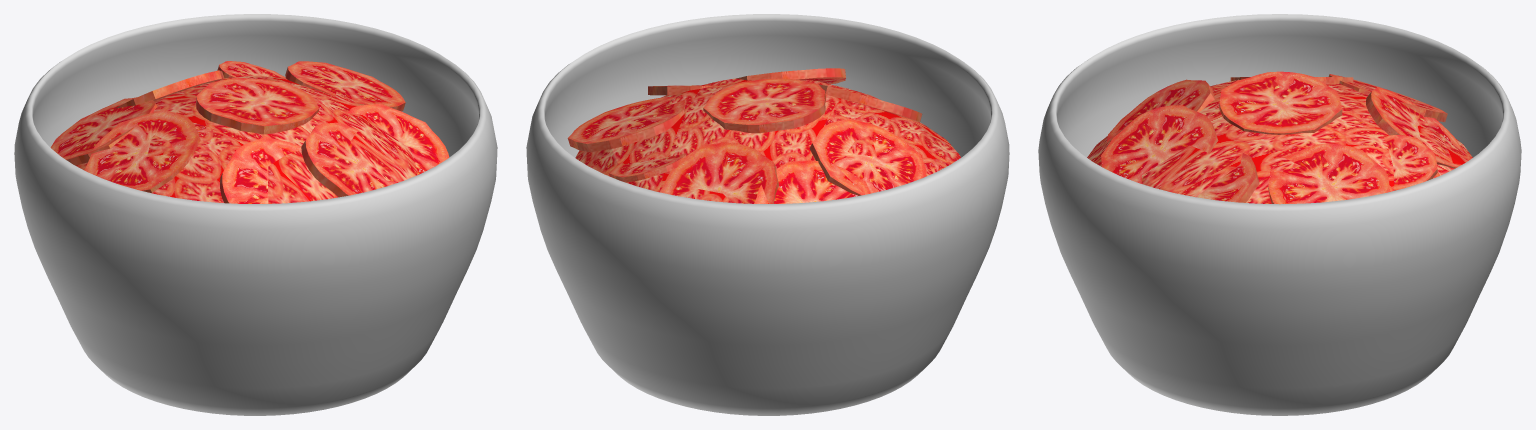
The model's file is tomato_bowl.fbx.
3 views of the same model, side by side, from view 1: azimuth 30°, elevation 25°; view 2: azimuth 150°, elevation 25°; view 3: azimuth 270°, elevation 25° (orthographic).
Parts seen in each view (by area): view 1: Sphere, Sphere.001, tomato.002, tomato.004, tomato.003, tomato.001, tomato.006, tomato.007, tomato, tomato.005, tomato.008; view 2: Sphere, Sphere.001, tomato.002, tomato.004, tomato.005, tomato.006, tomato.007, tomato.008, tomato.001, tomato.003, tomato; view 3: Sphere, Sphere.001, tomato.004, tomato.006, tomato.003, tomato.005, tomato.008, tomato.001, tomato, tomato.007.
Part boxes in pixels (x1,y1,x2,y2): Sphere: [14, 14, 497, 415]; Sphere.001: [76, 76, 417, 203]; tomato.002: [84, 109, 200, 192]; tomato.004: [196, 77, 318, 134]; tomato.003: [301, 122, 398, 197]; tomato.001: [220, 137, 301, 203]; tomato.006: [285, 61, 405, 111]; tomato.007: [50, 97, 157, 165]; tomato: [347, 103, 449, 175]; tomato.005: [114, 70, 224, 108]; tomato.008: [217, 61, 285, 78]; Sphere: [526, 14, 1009, 415]; Sphere.001: [575, 78, 960, 202]; tomato.002: [809, 119, 926, 195]; tomato.004: [703, 78, 825, 133]; tomato.005: [660, 142, 778, 203]; tomato.006: [567, 96, 685, 152]; tomato.007: [754, 160, 870, 203]; tomato.008: [609, 153, 686, 182]; tomato.001: [819, 84, 922, 122]; tomato.003: [736, 68, 845, 84]; tomato: [648, 85, 712, 95]; Sphere: [1038, 14, 1521, 415]; Sphere.001: [1087, 79, 1472, 203]; tomato.004: [1219, 71, 1342, 134]; tomato.006: [1268, 143, 1390, 204]; tomato.003: [1101, 105, 1218, 183]; tomato.005: [1366, 87, 1464, 168]; tomato.008: [1383, 135, 1437, 190]; tomato.001: [1107, 79, 1214, 142]; tomato: [1196, 153, 1259, 202]; tomato.007: [1328, 74, 1447, 122].
Size of the model in its own units: 39.86 by 23.01 by 39.86.
Materials: 11 (10 with a texture image).
